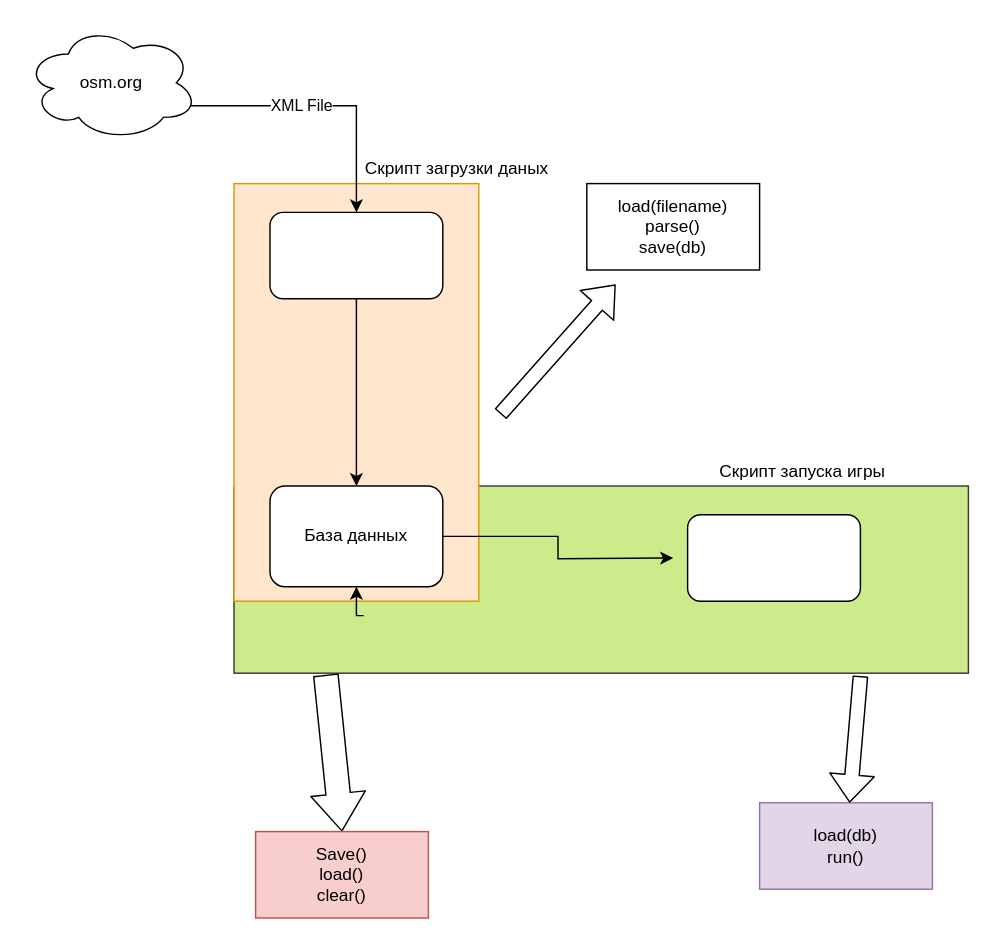
Some shapes in this 994 by 943 pixel diagram are drawn without their labels. The shapes that lost their labels are listed below. From the top down, each one's box as (x1, y1, x2, y2) in pixels, then its label:
(269, 211, 443, 299): Конвертор XML -> ???
(686, 513, 860, 601): Визуализатор pygame
